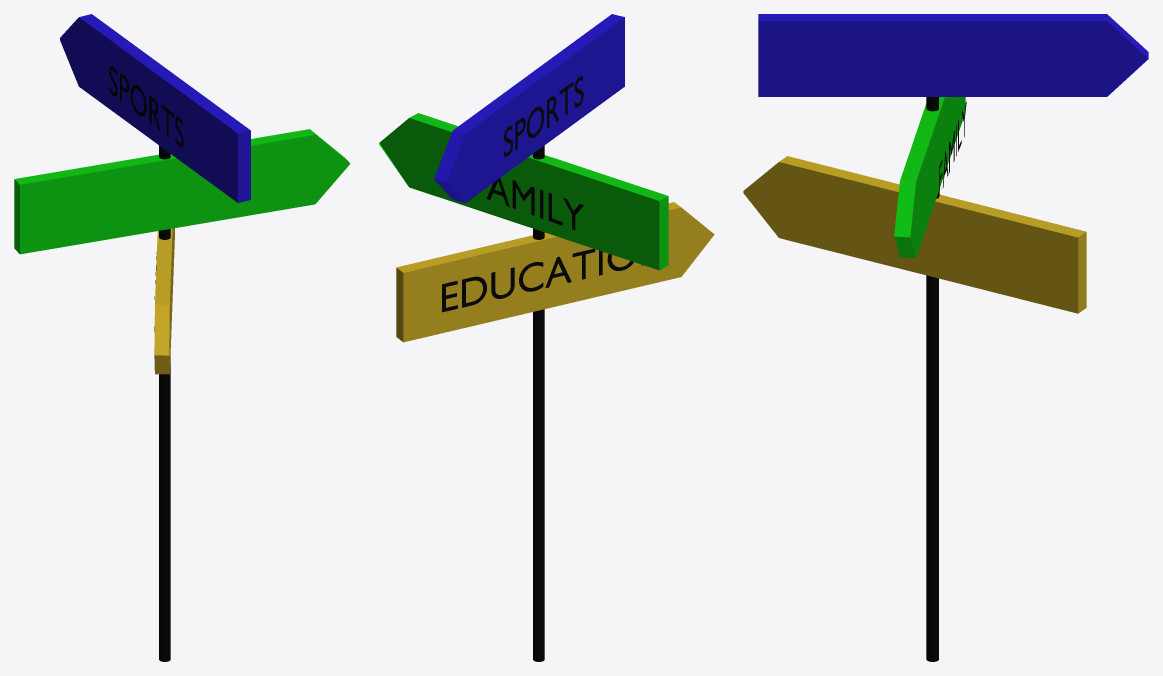
The model's file is wegweiser 1.obj.
The picture shows the model from 3 angles, left to right: view 1: azimuth 30°, elevation 25°; view 2: azimuth 150°, elevation 25°; view 3: azimuth 270°, elevation 25°; orthographic projection. The views are drawn at different scales.
Visible parts, largest first — view 1: Cube.001_Cube.002, Cube_Cube.001, Cylinder, Cube.002_Cube.003, Text.002; view 2: Cube.002_Cube.003, Cube.001_Cube.002, Cube_Cube.001, Cylinder, Text, Text.001, Text.002; view 3: Cube_Cube.001, Cube.002_Cube.003, Cube.001_Cube.002, Cylinder.
Part boxes in pixels (x1,y1,x2,y2): Cube.001_Cube.002: (14,129,350,254); Cube_Cube.001: (60,14,250,202); Cylinder: (159,145,170,661); Cube.002_Cube.003: (154,228,174,374); Text.002: (109,66,183,146); Cube.002_Cube.003: (396,202,714,342); Cube.001_Cube.002: (379,113,668,270); Cube_Cube.001: (434,14,624,202); Cylinder: (533,145,544,661); Text: (442,249,642,312); Text.001: (487,178,583,229); Text.002: (504,76,583,156); Cube_Cube.001: (758,14,1148,96); Cube.002_Cube.003: (743,156,1086,313); Cube.001_Cube.002: (894,97,965,257); Cylinder: (926,97,938,661).
Size of the model in its own units: 3.69 by 6.72 by 3.85.
